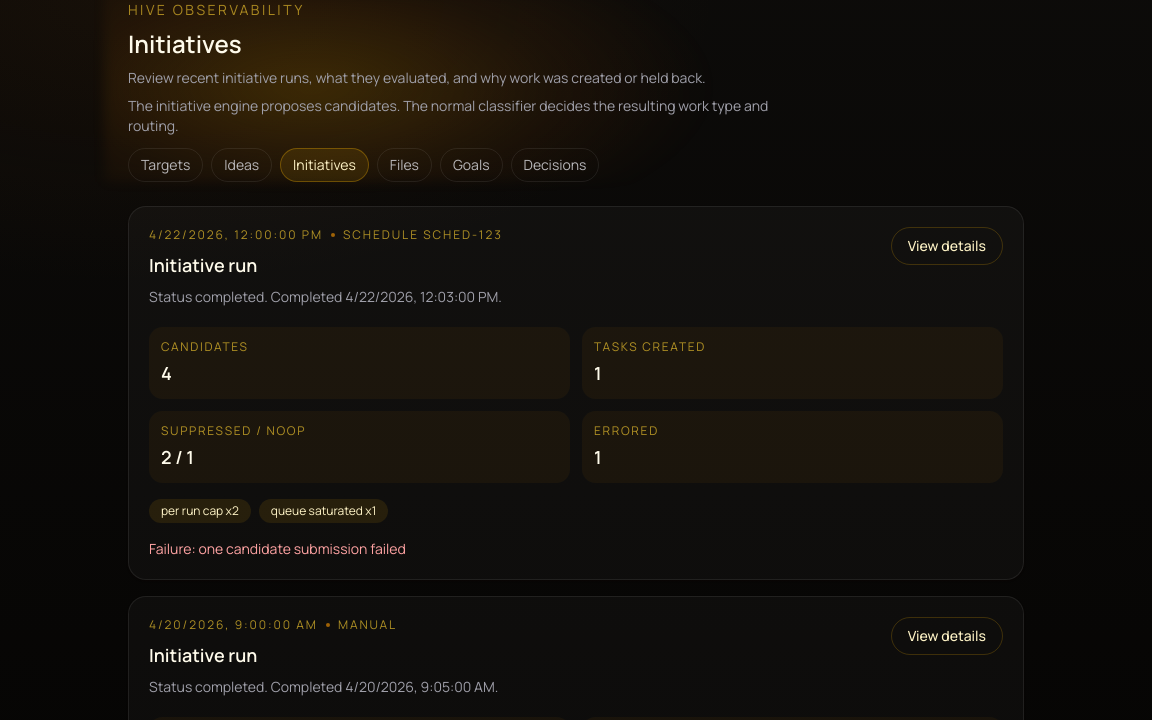
it: HiveInitiativesPage › renders newest-first runs with metrics and drill-down details
This screenshot has width=1152, height=720.
Check: the heading "Initiatives" is shown, box [128, 27, 242, 60]
Check: the text "The initiative engine proposes candidates" is shown, box [128, 96, 768, 135]
Click the button "View details" in the row of "schedule sched-123" at (947, 246), box [891, 227, 1003, 265]
(page scrolled)
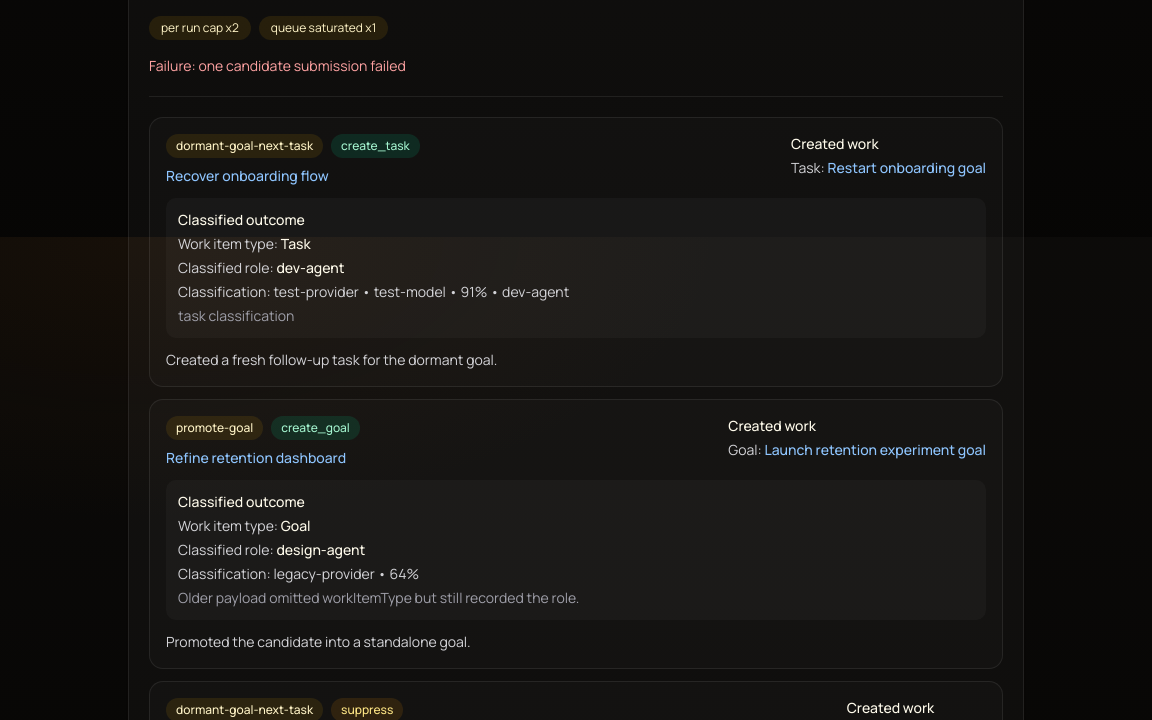
Check: the text "Created work" is shown 3 times, box [791, 134, 879, 153]; [728, 416, 816, 435]; [847, 698, 934, 717]
Check: the text "Classified outcome" is shown 3 times
Check: the text "Work item type:" is shown 3 times
